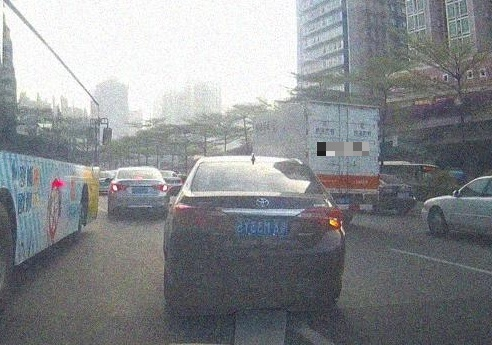L_light: (171, 200, 231, 227), (112, 184, 118, 192)
R_light: (295, 205, 343, 230), (162, 184, 169, 192)
T_light: (242, 161, 273, 166), (134, 177, 144, 179)
day-brake: (109, 168, 168, 216)
day-right: (170, 159, 344, 315)
plate_1: (317, 142, 369, 156)
